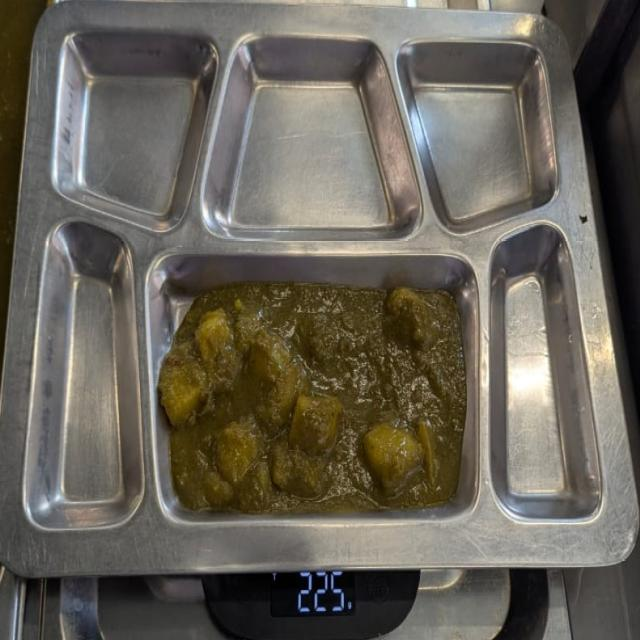Fried Rice: (153, 264, 471, 526)
